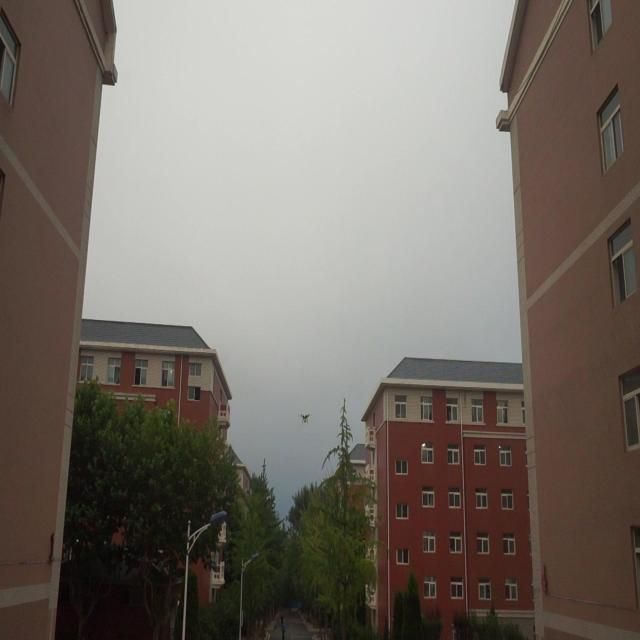drone: (299, 408, 311, 428)
